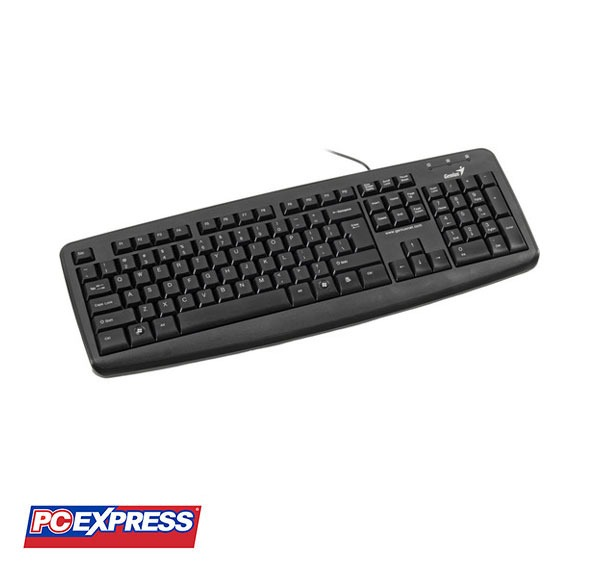keyboard: (43, 146, 541, 375)
